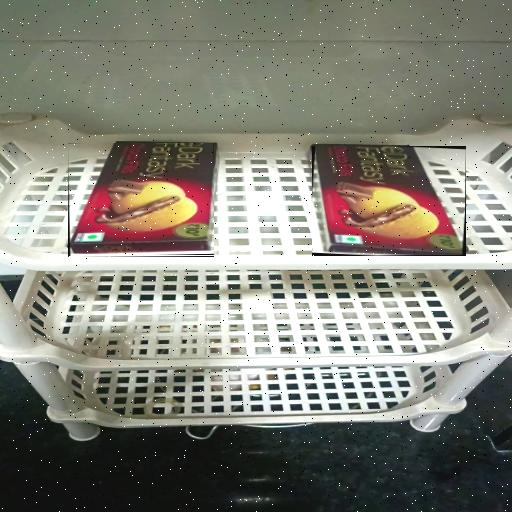Choco Fills: (312, 146, 466, 256), (68, 144, 214, 258)
